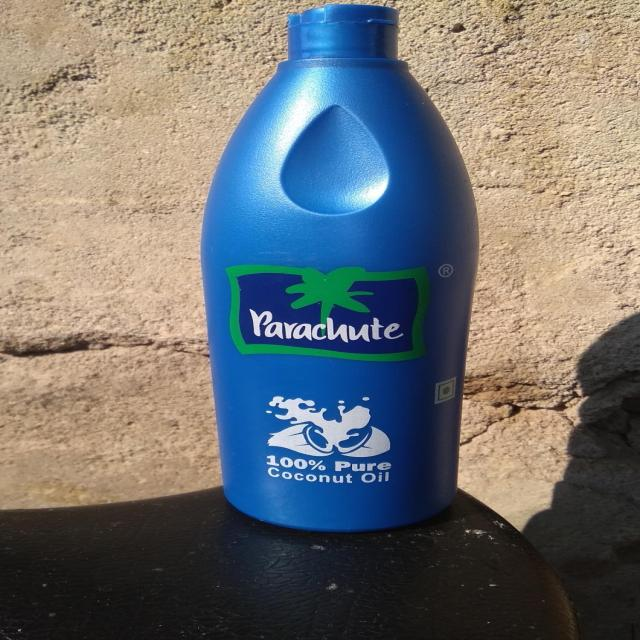parachute_oil: (179, 4, 507, 536)
